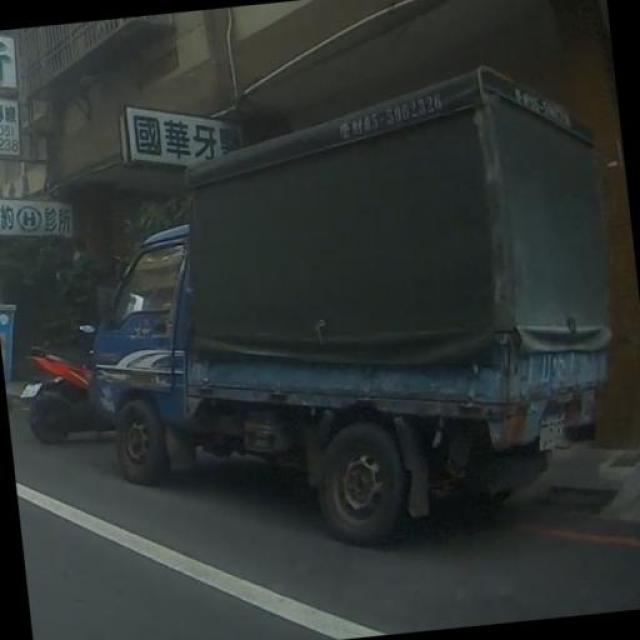illegalparking: (41, 98, 625, 562)
